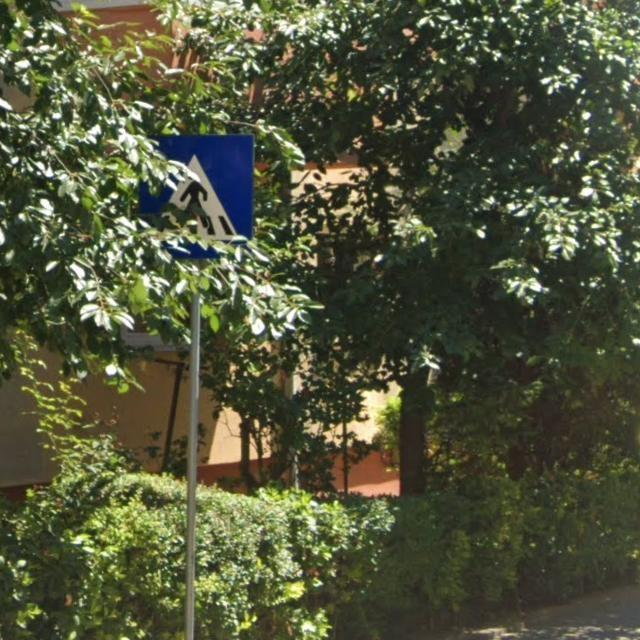info_crosswalk: (133, 132, 255, 255)
